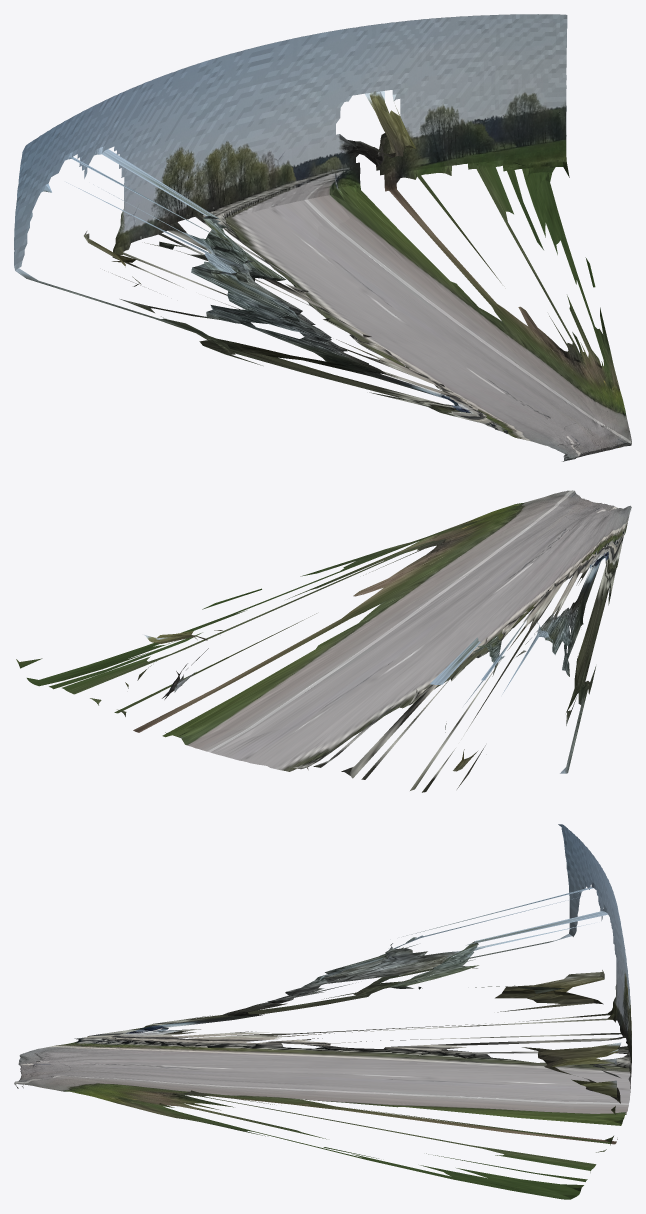
The picture shows the model from 3 angles, top to bottom: view 1: azimuth 30°, elevation 25°; view 2: azimuth 150°, elevation 25°; view 3: azimuth 270°, elevation 25°; orthographic projection. The views are drawn at different scales.
Visible parts, largest first — view 1: defaultobject; view 2: defaultobject; view 3: defaultobject.
Part boxes in pixels (<box>): defaultobject: <box>14,14,631,461</box>; defaultobject: <box>16,490,631,792</box>; defaultobject: <box>14,824,631,1199</box>.
Size of the model in its own units: 41.16 by 12.59 by 44.69.
1 material, 1 textured.
